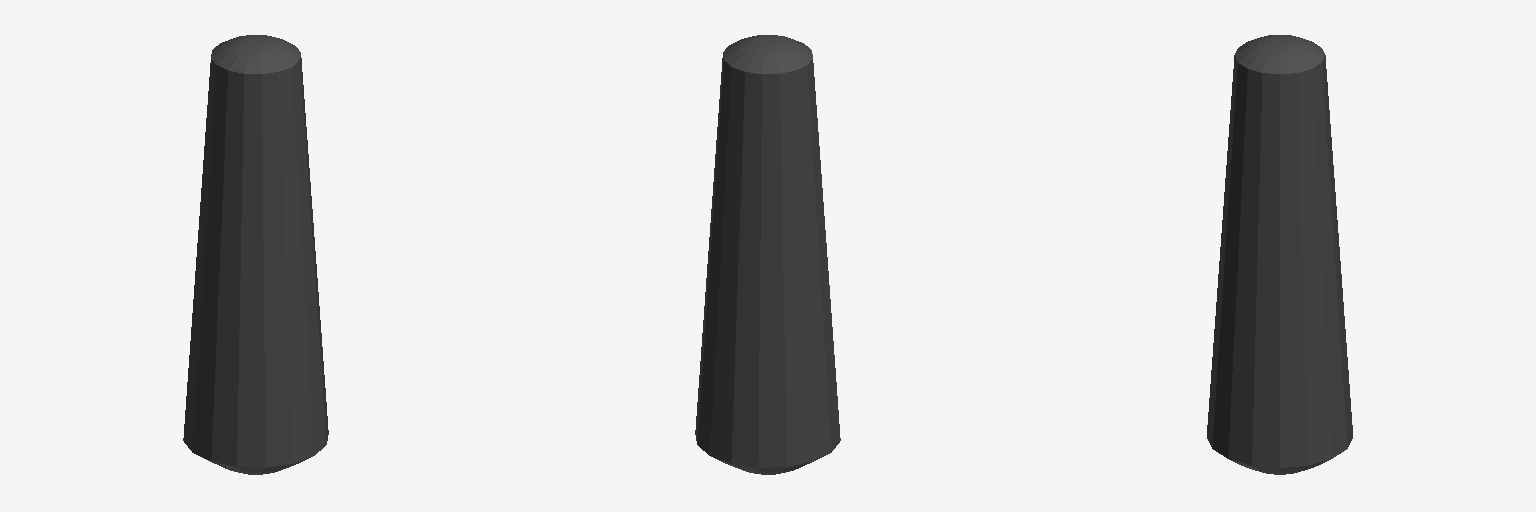
Rendered from agate_pestle.obj.
3 views of the same model, side by side, from view 1: azimuth 30°, elevation 25°; view 2: azimuth 150°, elevation 25°; view 3: azimuth 270°, elevation 25° (orthographic).
Visible parts, largest first — view 1: agate_pestle; view 2: agate_pestle; view 3: agate_pestle.
Part boxes in pixels (bbox=[...]): agate_pestle: bbox=[183, 35, 328, 474]; agate_pestle: bbox=[695, 35, 840, 474]; agate_pestle: bbox=[1207, 35, 1352, 474].
Bounding box in the file's own units: 11.25 × 36.08 × 11.25.